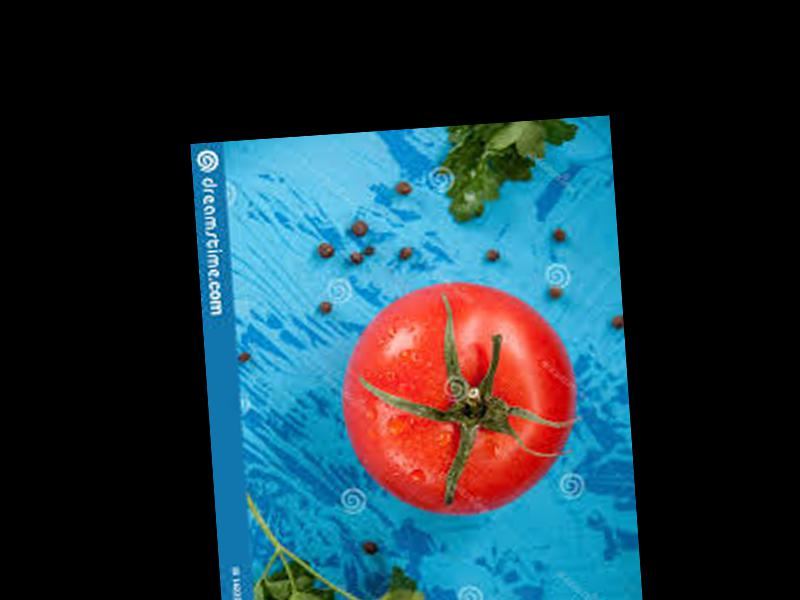Tomato: (335, 275, 582, 523)
